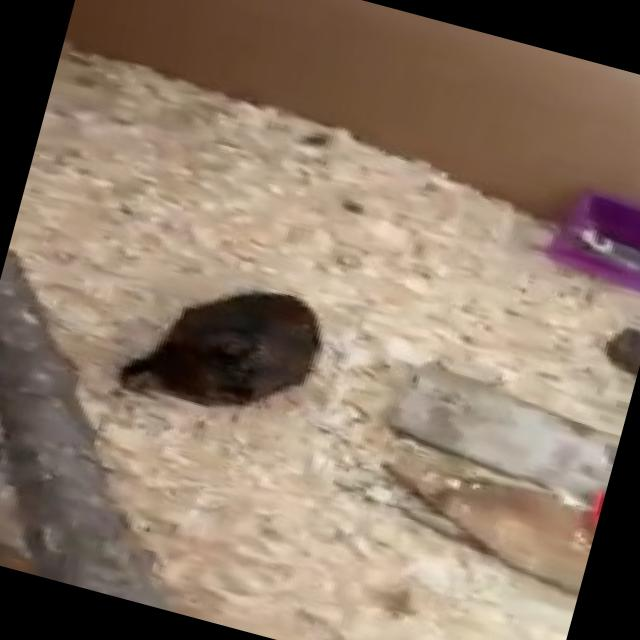newcastle: (94, 236, 332, 444)
